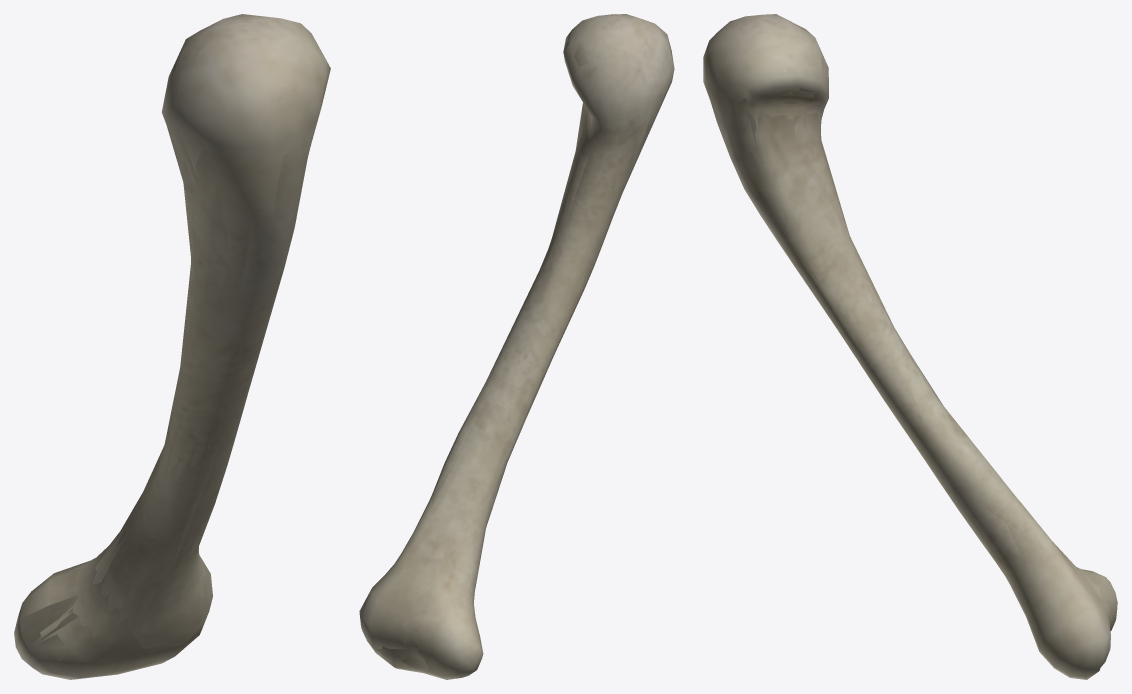
File: L Humerus.fbx
The picture shows the model from 3 angles, left to right: view 1: azimuth 30°, elevation 25°; view 2: azimuth 150°, elevation 25°; view 3: azimuth 270°, elevation 25°; orthographic projection. The views are drawn at different scales.
Parts seen in each view (by area): view 1: L Humerus, L Humerus low, L Humerus high; view 2: L Humerus low, L Humerus, L Humerus high; view 3: L Humerus, L Humerus low, L Humerus high.
Part boxes in pixels (x1,y1,x2,y2): L Humerus: [14, 14, 330, 679]; L Humerus low: [14, 15, 329, 678]; L Humerus high: [18, 29, 319, 661]; L Humerus low: [360, 14, 673, 677]; L Humerus: [359, 14, 674, 679]; L Humerus high: [365, 15, 670, 675]; L Humerus: [703, 14, 1117, 679]; L Humerus low: [703, 14, 1115, 677]; L Humerus high: [704, 19, 1111, 639].
Size of the model in its own units: 2.07 by 6.94 by 4.21.
1 material, 1 textured.
